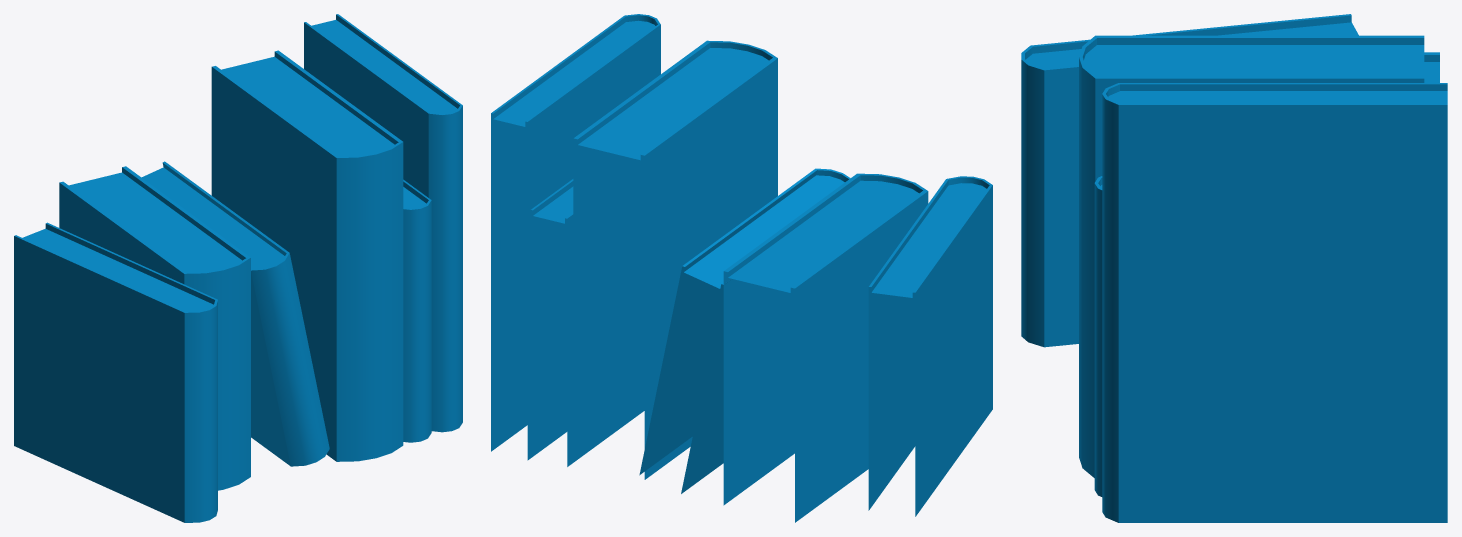
Rendered from HalloweenRoomA_BooksC.fbx.
The picture shows the model from 3 angles, left to right: view 1: azimuth 30°, elevation 25°; view 2: azimuth 150°, elevation 25°; view 3: azimuth 270°, elevation 25°; orthographic projection. The views are drawn at different scales.
Parts seen in each view (by area): view 1: HalloweenRoomA_BooksC; view 2: HalloweenRoomA_BooksC; view 3: HalloweenRoomA_BooksC.
Part boxes in pixels (box(x1,y1,x2,y2)): HalloweenRoomA_BooksC: box(14, 14, 462, 522); HalloweenRoomA_BooksC: box(491, 14, 992, 522); HalloweenRoomA_BooksC: box(1021, 14, 1447, 522).
Size of the model in its own units: 43.47 by 36.52 by 33.74.
